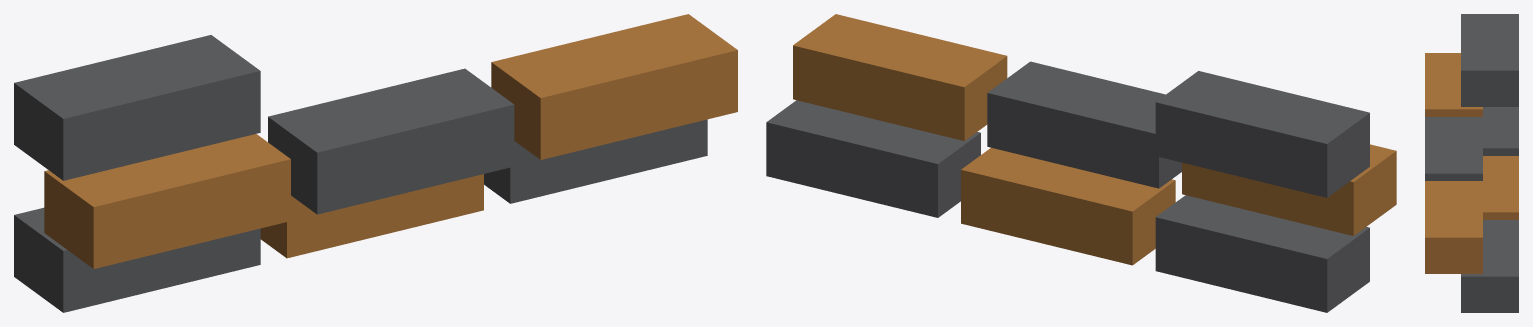
The model's file is ingots.glb.
3 views of the same model, side by side, from view 1: azimuth 30°, elevation 25°; view 2: azimuth 150°, elevation 25°; view 3: azimuth 270°, elevation 25° (orthographic). The views are drawn at different scales.
Parts seen in each view (by area): view 1: part_0, part_1; view 2: part_0, part_1; view 3: part_0, part_1.
Part boxes in pixels (x1,y1,x2,y2): part_0: (14,35,707,312); part_1: (44,14,737,268); part_0: (766,61,1369,312); part_1: (793,14,1396,265); part_0: (1425,14,1518,312); part_1: (1425,53,1518,273).
Bounding box in the file's own units: 0.49 × 0.141 × 0.105.
